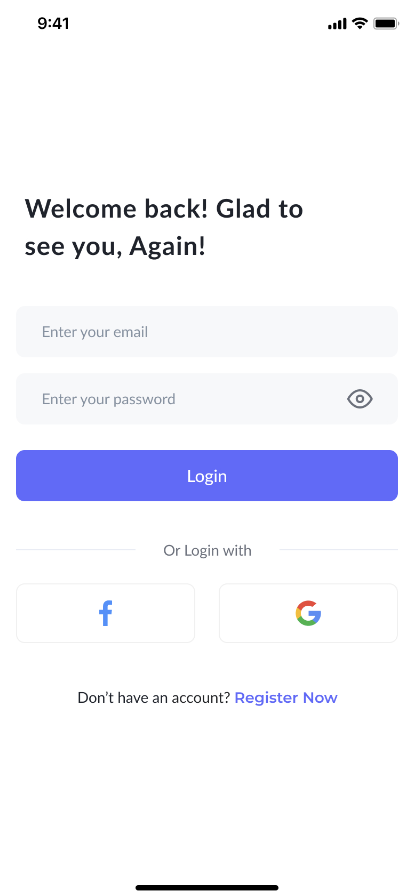Input: (13, 369, 399, 428), (13, 302, 400, 360)
